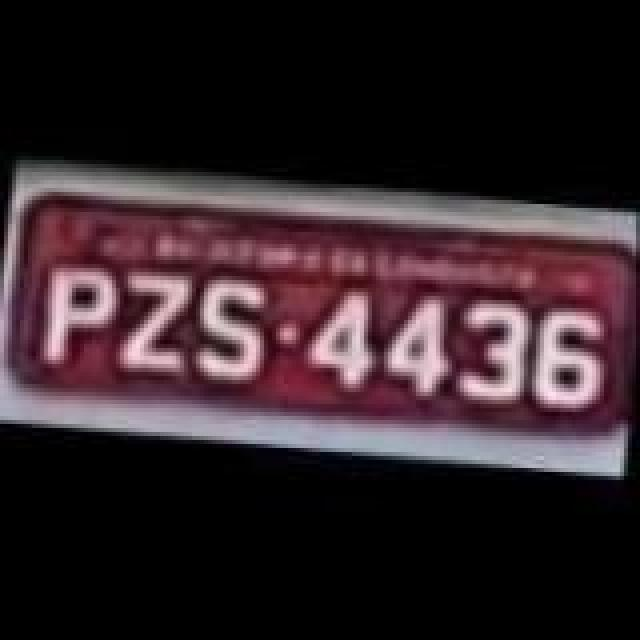3: (448, 300, 540, 416)
4: (370, 292, 458, 408), (302, 284, 382, 396)
6: (530, 296, 618, 420)
P: (30, 256, 118, 376)
S: (184, 268, 276, 388)
Z: (108, 268, 200, 380)
